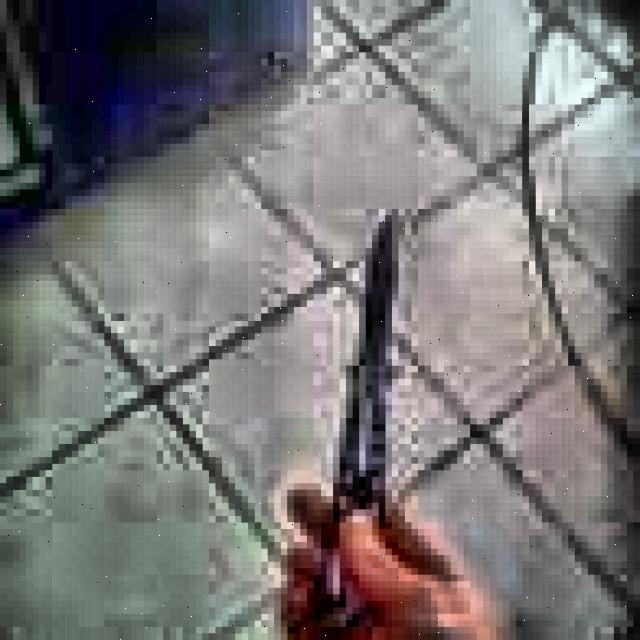knife: (326, 215, 398, 640)
